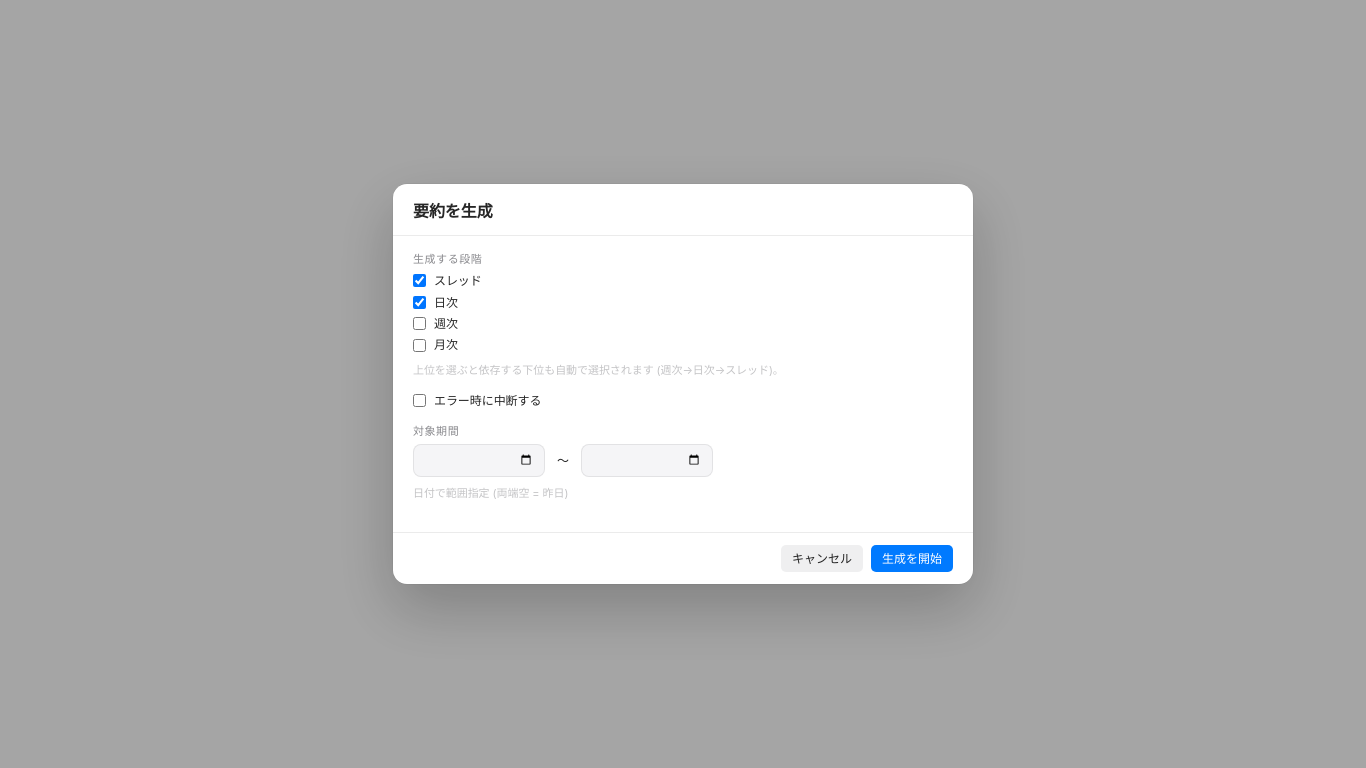
Test case: SummaryGenerateDialog › disables the submit button for a one-sided range
Type "2026-05-01" into the date field named "開始" at (479, 460), box [413,444,545,477]
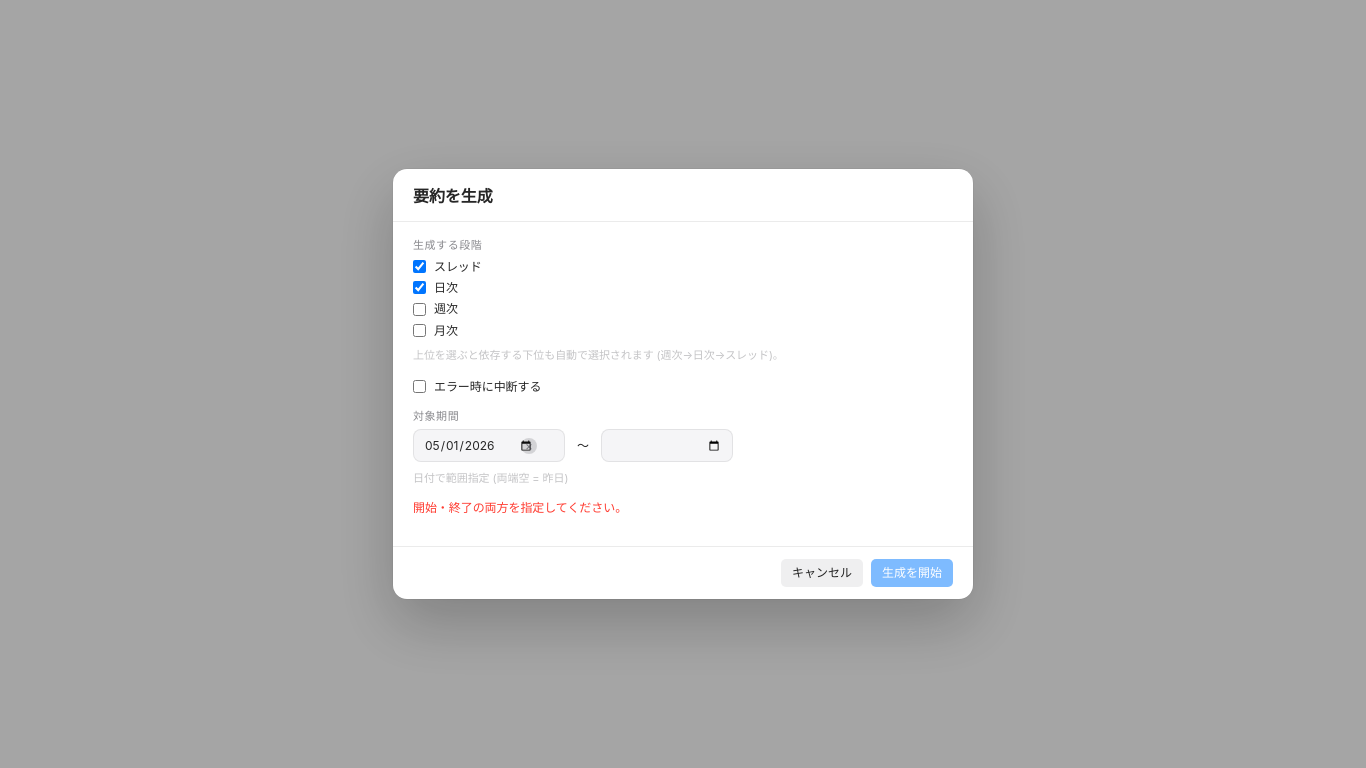
Expected: the button "生成を開始" is disabled, [871,559,953,587]
